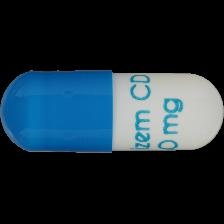68682-521: (0, 0, 224, 224)
